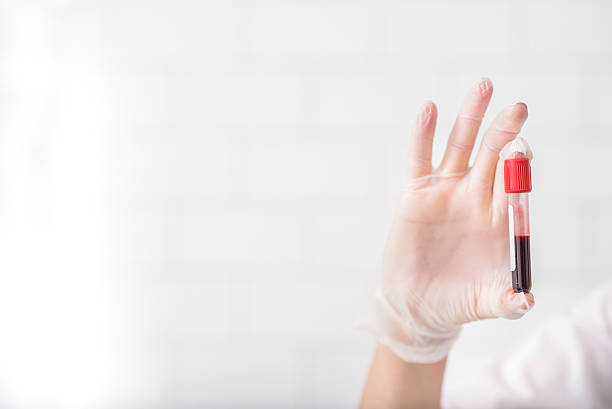blood: (509, 232, 533, 296)
